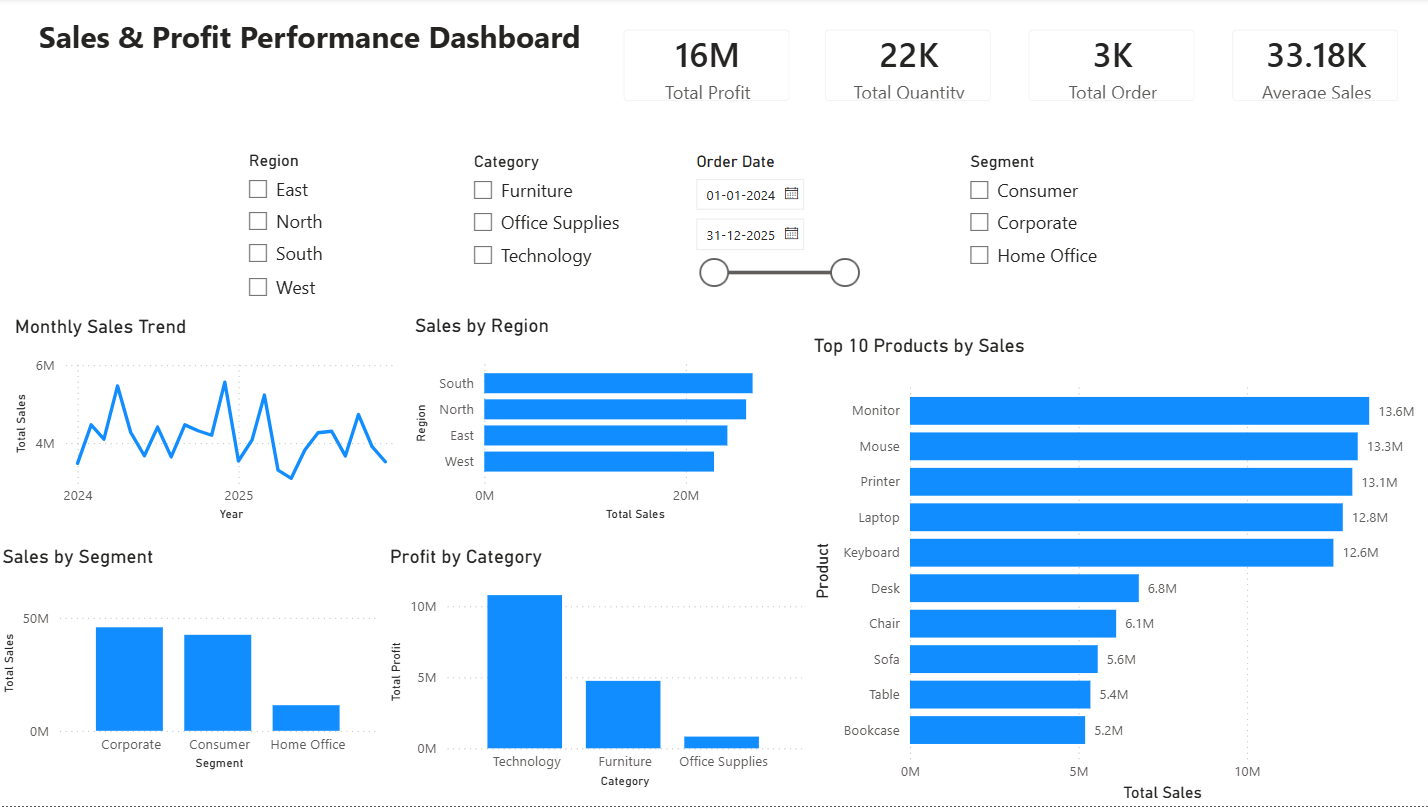

The page's visual inventory and layout, read from the dashboard file:
{"tool":"powerbi","page":{"name":"Page 1","canvas":[1280,720],"ordinal":0},"visuals":[{"type":"cardVisual","fields":{"Data":["Data.Total Quantity"]},"box":[720.2,11.1,182,98],"z":0},{"type":"cardVisual","fields":{"Data":["Data.Total Profit"]},"box":[541,11.1,182,98],"z":1000},{"type":"cardVisual","fields":{"Data":["Data.Total Order"]},"box":[901.7,11.1,182,98],"z":2000},{"type":"cardVisual","fields":{"Data":["Data.Average Sales"]},"box":[1083.1,11.1,182,98],"z":3000},{"type":"slicer","fields":{"Values":["Data.Region"]},"box":[211.5,131.4,166,150],"z":4000},{"type":"slicer","fields":{"Values":["Data.Segment"]},"box":[853.8,132.5,166,150],"z":5000},{"type":"slicer","fields":{"Values":["Data.Category"]},"box":[411.9,132.5,166,150],"z":6000},{"type":"slicer","fields":{"Values":["Data.Order Date"]},"box":[610,132.5,166,150],"z":7000},{"type":"lineChart","title":"Monthly Sales Trend","fields":{"Category":["Data.Order Date.Variation.Date Hierarchy.Year","Data.Order Date.Variation.Date Hierarchy.Month"],"Y":["Data.Total Sales"]},"box":[11.1,282.7,352.9,188.1],"z":8000},{"type":"clusteredBarChart","title":"Sales by Region","fields":{"Category":["Data.Region"],"Y":["Data.Total Sales"]},"box":[367.3,281.6,353,189],"z":9000},{"type":"clusteredColumnChart","title":"Profit by Category","fields":{"Category":["Data.Category"],"Y":["Data.Total Profit"]},"box":[345.1,487.6,377.4,220.4],"z":10000},{"type":"clusteredColumnChart","title":"Sales by Segment","fields":{"Category":["Data.Segment"],"Y":["Data.Total Sales"]},"box":[0,487.6,345.1,204.8],"z":11000},{"type":"clusteredBarChart","title":"Top 10 Products by Sales","fields":{"Category":["Data.Product"],"Y":["Data.Total Sales"]},"box":[722.5,299.4,557.7,420.8],"z":12000},{"type":"textbox","box":[32.3,11.1,506.5,53.4],"z":13000}]}

Visuals, with their boxes in screenshot pixels (x1, y1, x2, y2), scaled from the page's 1280x720 canvas onto the 1428x807 screenshot:
cardVisual - Data.Total Quantity: [x1=803, y1=12, x2=1007, y2=122]
cardVisual - Data.Total Profit: [x1=604, y1=12, x2=807, y2=122]
cardVisual - Data.Total Order: [x1=1006, y1=12, x2=1209, y2=122]
cardVisual - Data.Average Sales: [x1=1208, y1=12, x2=1411, y2=122]
slicer - Data.Region: [x1=236, y1=147, x2=421, y2=315]
slicer - Data.Segment: [x1=953, y1=149, x2=1138, y2=317]
slicer - Data.Category: [x1=460, y1=149, x2=645, y2=317]
slicer - Data.Order Date: [x1=681, y1=149, x2=866, y2=317]
"Monthly Sales Trend" lineChart: [x1=12, y1=317, x2=406, y2=528]
"Sales by Region" clusteredBarChart: [x1=410, y1=316, x2=804, y2=527]
"Profit by Category" clusteredColumnChart: [x1=385, y1=547, x2=806, y2=794]
"Sales by Segment" clusteredColumnChart: [x1=0, y1=547, x2=385, y2=776]
"Top 10 Products by Sales" clusteredBarChart: [x1=806, y1=336, x2=1427, y2=806]
textbox: [x1=36, y1=12, x2=601, y2=72]
